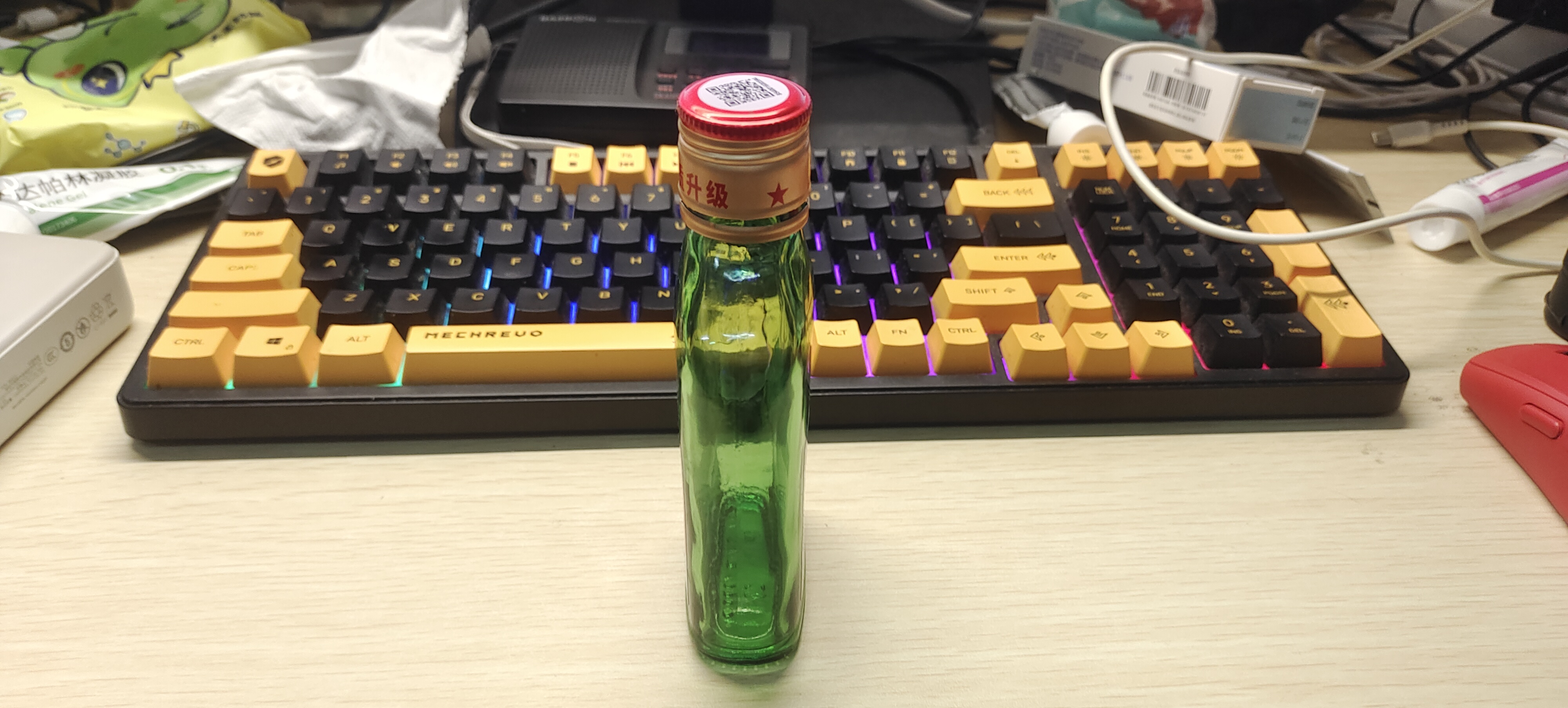redbull: (612, 55, 877, 708)
